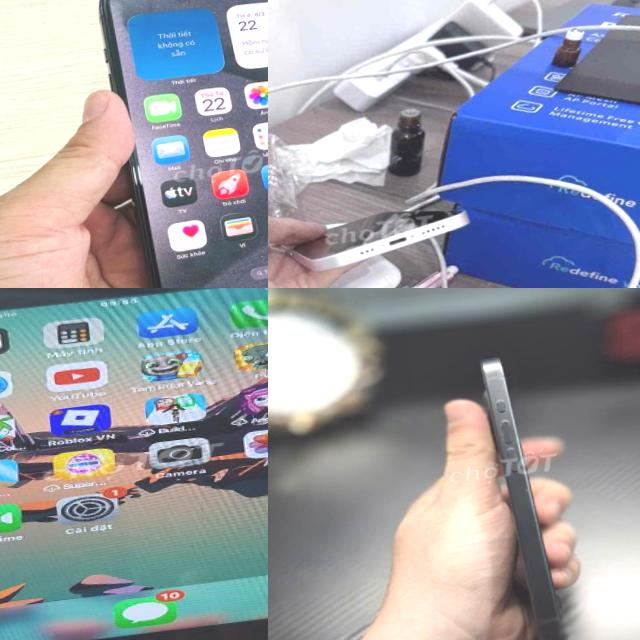gen_12_13: (276, 182, 486, 284)
gen_15: (67, 0, 268, 288), (452, 331, 622, 640)
gen_6: (0, 288, 268, 640)
